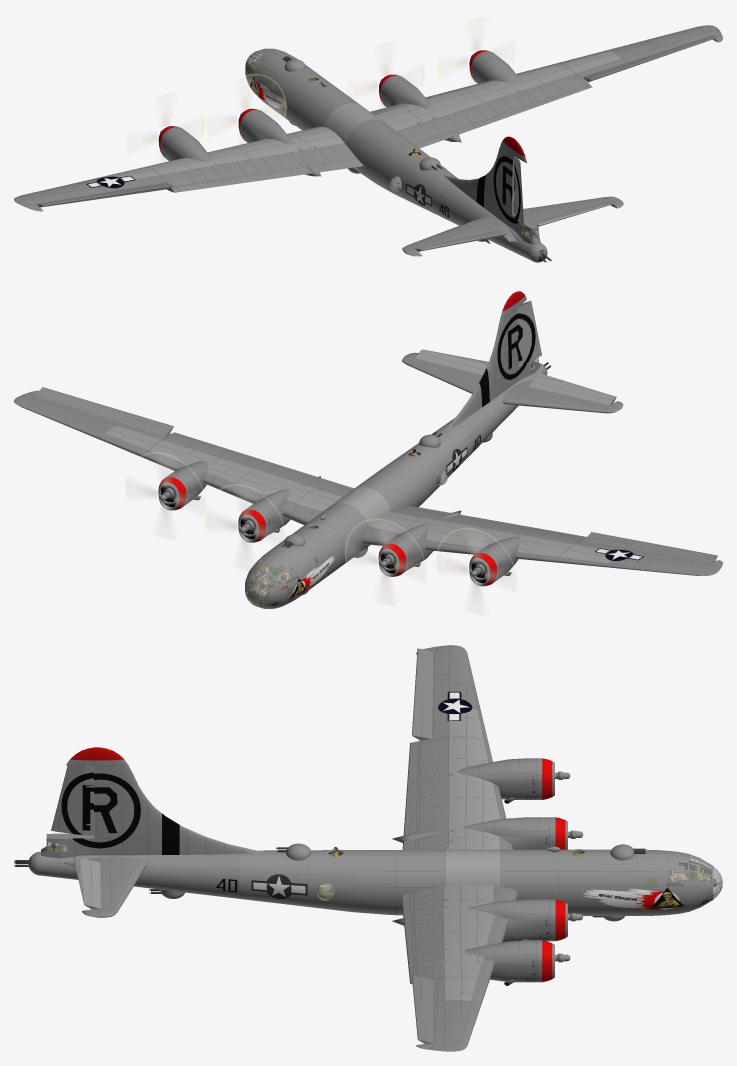
Rendered from b29_flyt_6bg_npa35n.glb.
3 renders of one model, top to bottom at view 1: azimuth 30°, elevation 25°; view 2: azimuth 150°, elevation 25°; view 3: azimuth 270°, elevation 25°, orthographic. The views are drawn at different scales.
Visible parts, largest first — view 1: wingR, wingL, fuse2, tail_vert, fuse3, tail_horz, fuse1, fuse4, prop1, prop3, prop2, engine3 (+9 smaller); view 2: wingR, wingL, fuse2, tail_vert, tail_horz, fuse1, fuse3, prop3, prop1, prop2, tail_elevator, prop4 (+9 smaller); view 3: wingL, fuse2, wingR, tail_vert, fuse1, fuse3, fuse4, engine4, engine1, engine2, engine3, tail_rudder (+6 smaller).
Part boxes in pixels (<box>): wingR: <box>370,25,722,148</box>; wingL: <box>14,126,363,211</box>; fuse2: <box>281,73,420,191</box>; tail_vert: <box>444,136,540,244</box>; fuse3: <box>384,147,458,217</box>; tail_horz: <box>402,196,623,256</box>; fuse1: <box>245,48,319,118</box>; fuse4: <box>437,184,541,260</box>; prop1: <box>125,91,206,168</box>; prop3: <box>205,74,286,150</box>; prop2: <box>436,15,516,91</box>; engine3: <box>238,108,321,176</box>; wingR: <box>14,390,353,524</box>; wingL: <box>362,506,722,575</box>; fuse2: <box>292,458,429,578</box>; tail_vert: <box>443,291,540,432</box>; tail_horz: <box>402,352,623,413</box>; fuse1: <box>245,533,328,608</box>; fuse3: <box>393,423,472,499</box>; prop3: <box>345,519,426,605</box>; prop1: <box>435,528,516,615</box>; prop2: <box>125,452,205,539</box>; tail_elevator: <box>415,349,616,405</box>; prop4: <box>205,484,285,571</box>; wingL: <box>402,645,513,849</box>; fuse2: <box>354,849,598,915</box>; wingR: <box>401,884,518,1051</box>; tail_vert: <box>41,747,265,858</box>; fuse1: <box>598,849,713,915</box>; fuse3: <box>239,850,353,912</box>; fuse4: <box>40,852,238,898</box>; engine4: <box>392,899,567,942</box>; engine1: <box>457,758,554,799</box>; engine2: <box>465,940,554,982</box>; engine3: <box>391,817,567,849</box>; tail_rudder: <box>51,765,93,835</box>.
Bounding box in the file's own units: 139 × 28.65 × 102.
Materials: 41 (30 with a texture image).
